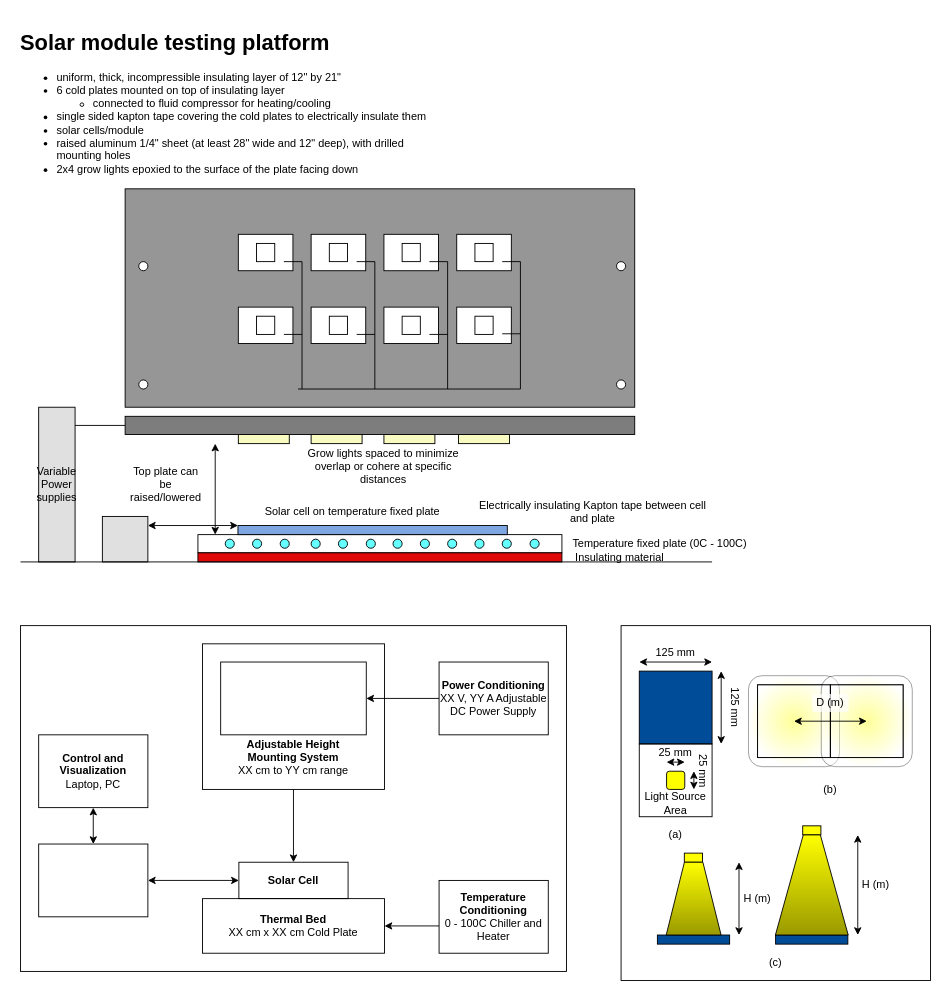
Some shapes in this 946 by 996 pixel diagram are drawn without their labels. The shapes that lost their labels are listed below. From the top down, each one's box as (x1, y1, x2, y2) in pixels, then its label:
(101, 516, 148, 562): Curve Tracer
(220, 661, 366, 735): Sun-like Light Source 34769-OP 50W Grow LED Modules
(638, 670, 712, 744): Solar Cell Area
(38, 843, 148, 917): Measurement and Signal Conditioning Curve Tracer, Blackbody B
